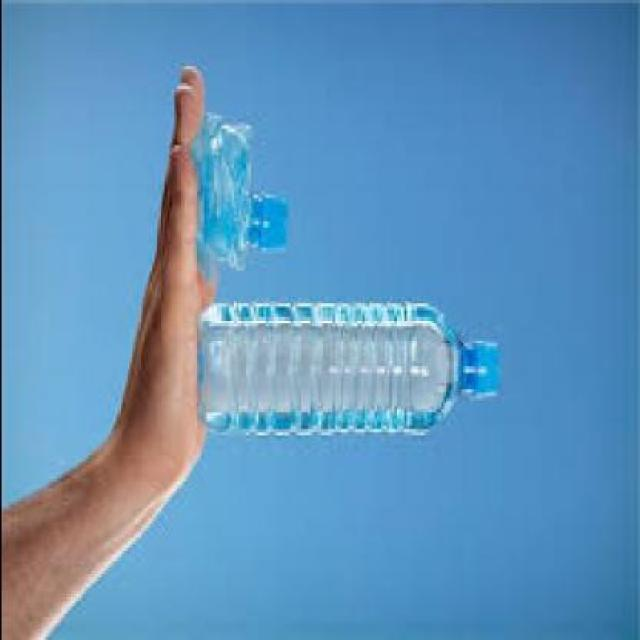PLASTIC: (196, 303, 504, 439), (190, 114, 295, 284), (469, 340, 502, 406), (258, 198, 292, 257)
